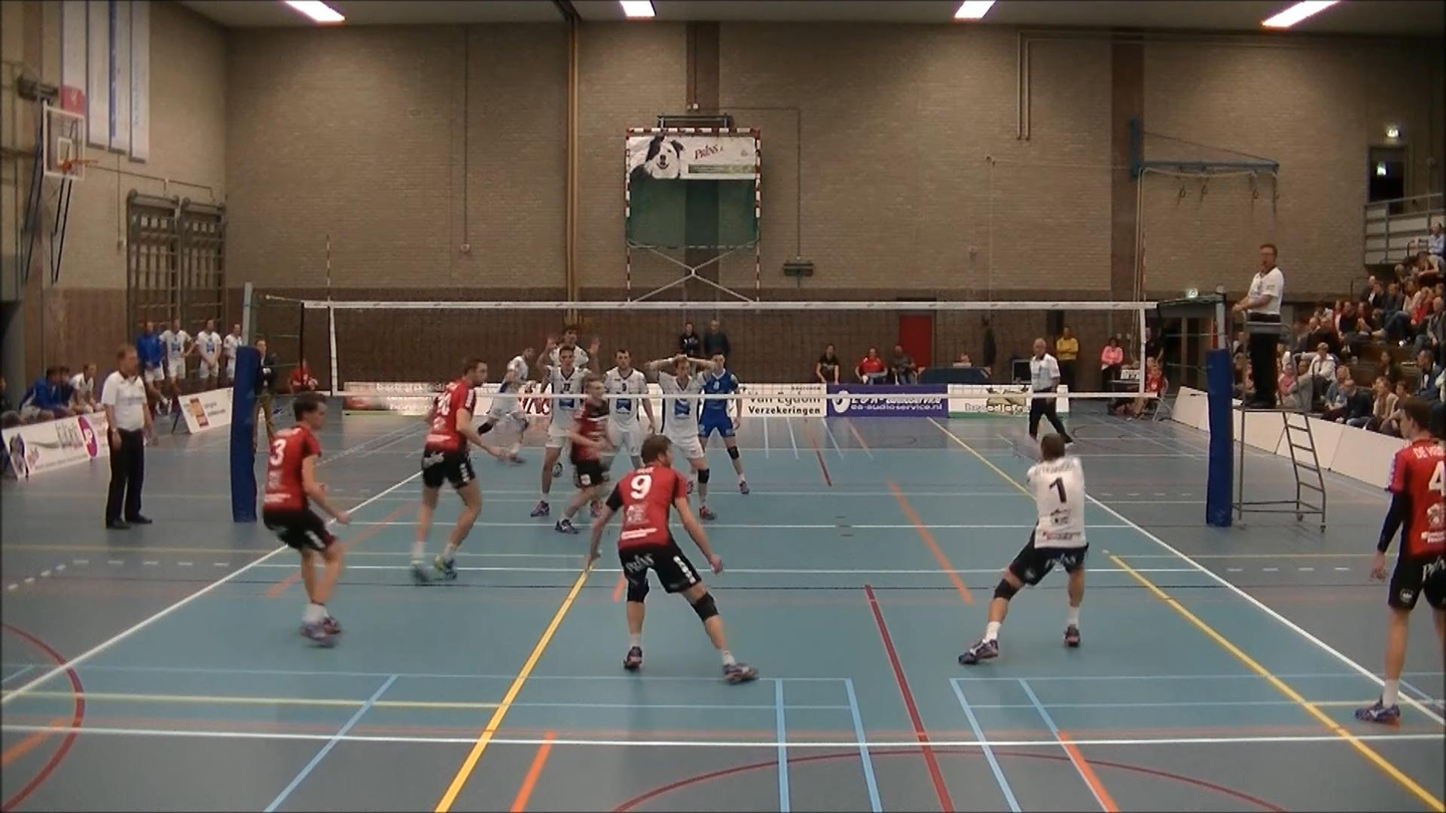ricezione: (950, 427, 1091, 671)
